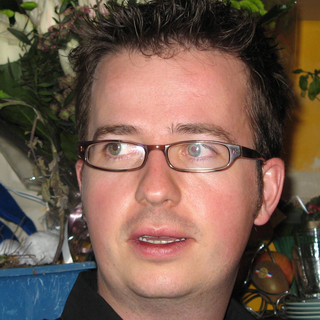eye: (177, 136, 223, 162), (100, 138, 134, 161)
